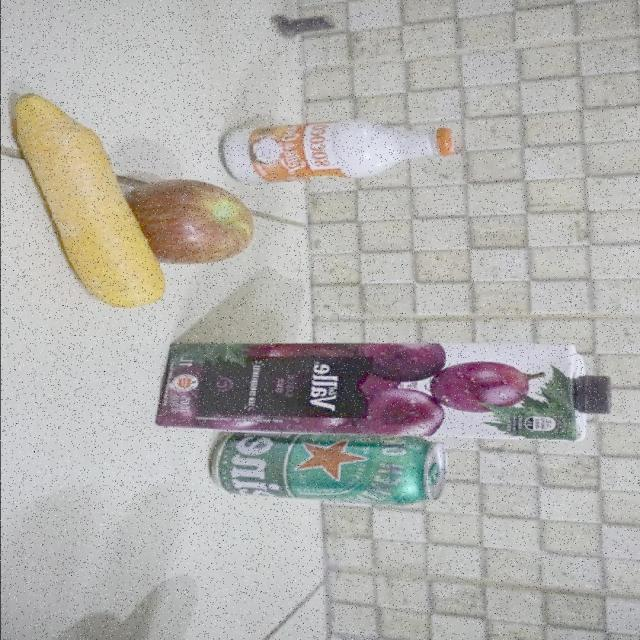Apple: (123, 179, 254, 265)
BeerCan: (212, 431, 448, 506)
Carrot: (13, 92, 166, 310)
CoconutMilk: (222, 117, 454, 184)
